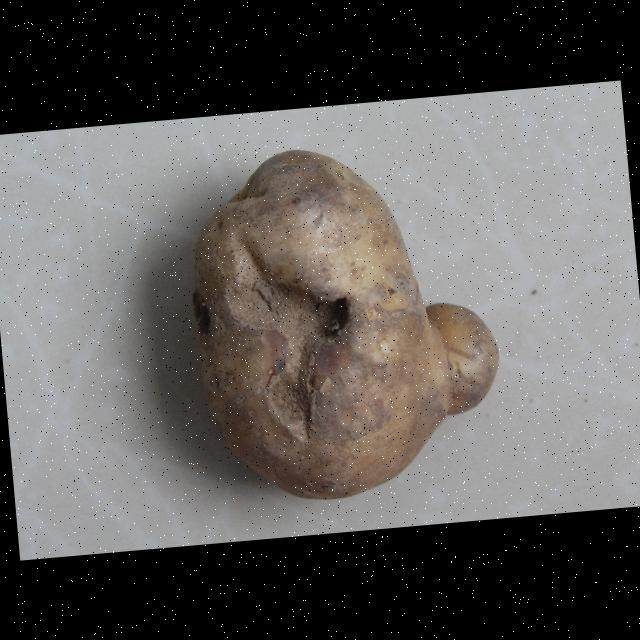Damaged potato: (172, 131, 512, 514)
